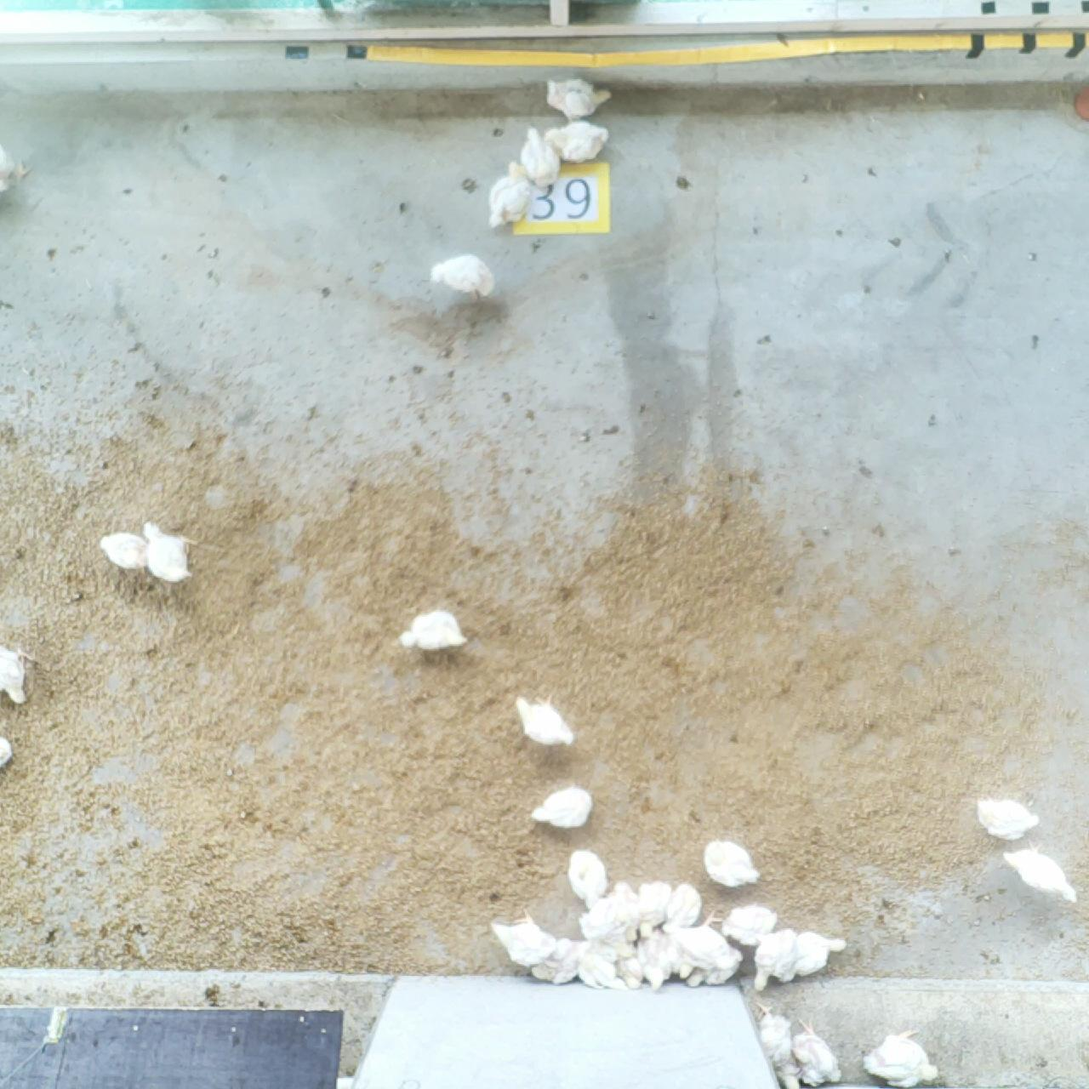chicken: (1005, 845, 1080, 908), (864, 1029, 942, 1086), (430, 252, 504, 303), (704, 835, 770, 889), (792, 1022, 847, 1084), (511, 699, 576, 750), (583, 886, 645, 939), (657, 912, 724, 959), (400, 609, 471, 651), (579, 931, 631, 988), (752, 933, 799, 996), (757, 1003, 798, 1075), (793, 932, 849, 984), (681, 933, 736, 984), (493, 161, 533, 230), (145, 521, 191, 579), (978, 798, 1039, 840), (546, 79, 613, 117), (550, 123, 613, 163), (722, 905, 780, 946), (538, 937, 592, 981), (532, 789, 595, 826), (639, 921, 673, 989), (1, 642, 37, 706), (569, 849, 607, 909), (100, 531, 153, 573), (493, 920, 551, 958), (664, 886, 707, 929), (525, 132, 561, 183), (636, 886, 674, 932), (610, 942, 647, 989), (1, 140, 25, 208), (1, 731, 17, 772)
